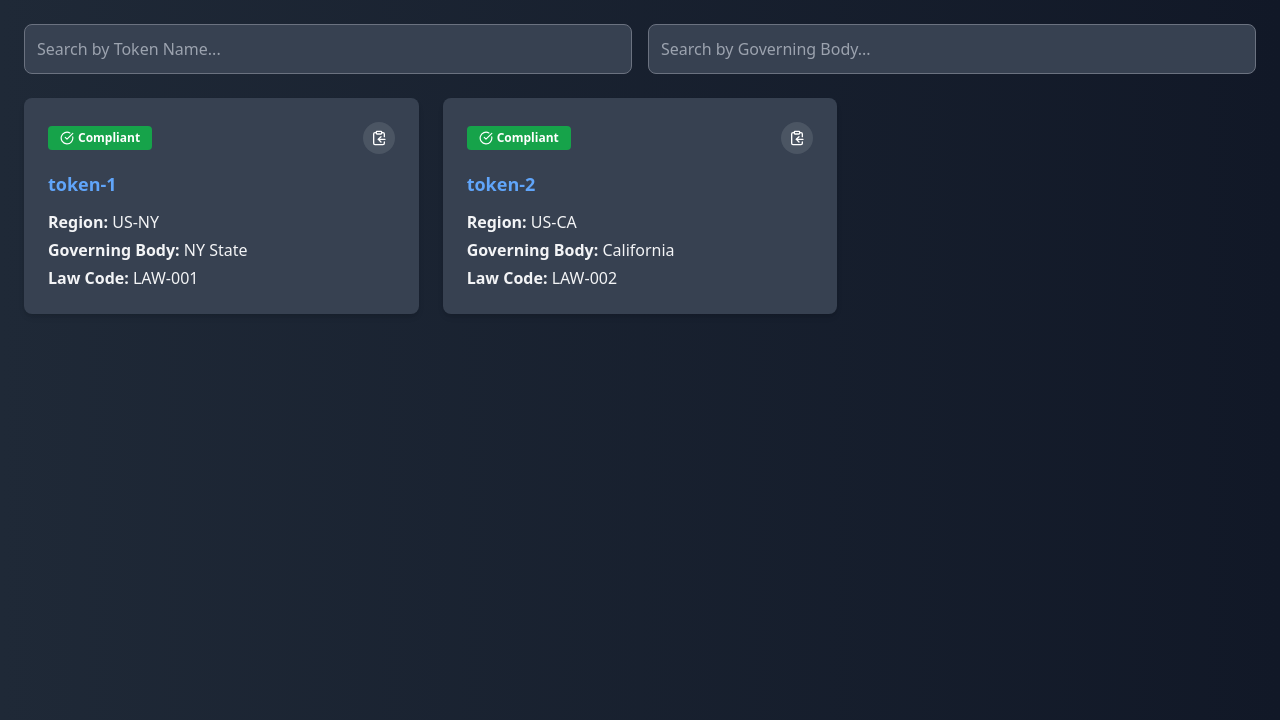
Compliance Render and Searches › filters by token name with no results
Check: the link "token-1" is shown, box [48,172,117,196]
Check: the link "token-2" is shown, box [467,172,535,196]
Simulate typing in the search field for Token Name with an invalid search term
Type "non-existent-token" into the field with placeholder "Search by Token Name..." at (328, 49), box [24,24,632,74]
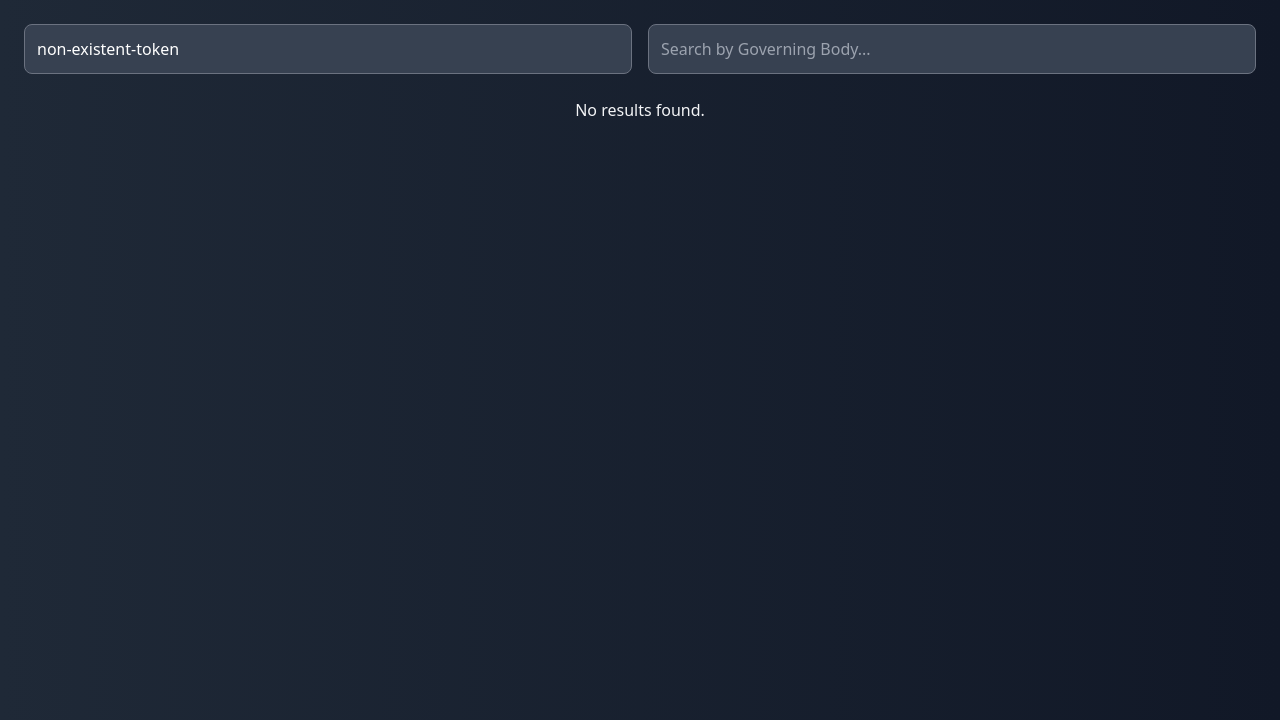
Check: the link "token-1" is gone
Check: the link "token-2" is gone
Check: the text "No results found." is shown, box [575,99,705,121]
